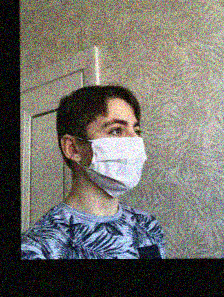with_mask: (87, 111, 148, 201)
